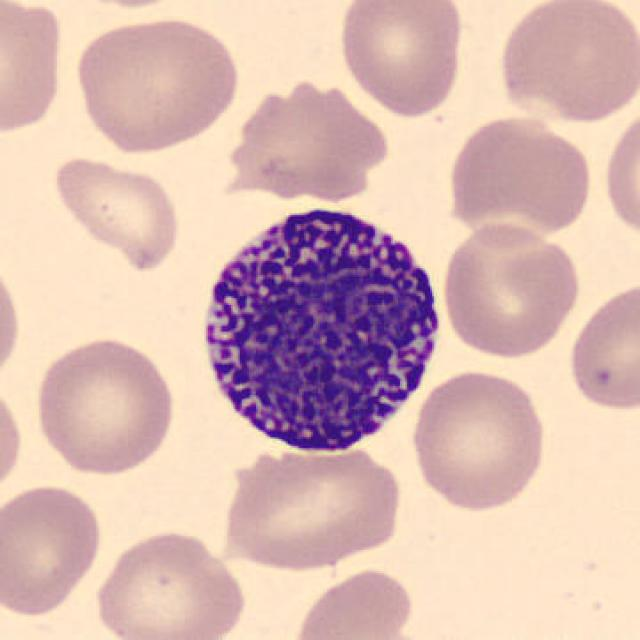Basophil: (188, 187, 454, 464)
RBC: (215, 437, 409, 575), (70, 10, 244, 157), (30, 331, 180, 478), (407, 365, 551, 515), (442, 109, 596, 245), (439, 218, 583, 362), (226, 85, 394, 208), (492, 0, 638, 127), (89, 525, 249, 640), (48, 152, 185, 273), (334, 0, 468, 120), (0, 479, 105, 619), (564, 277, 638, 416), (288, 566, 420, 640), (0, 0, 67, 139), (599, 100, 640, 247), (0, 376, 27, 504), (0, 252, 25, 390), (307, 626, 453, 640), (53, 0, 204, 12)
